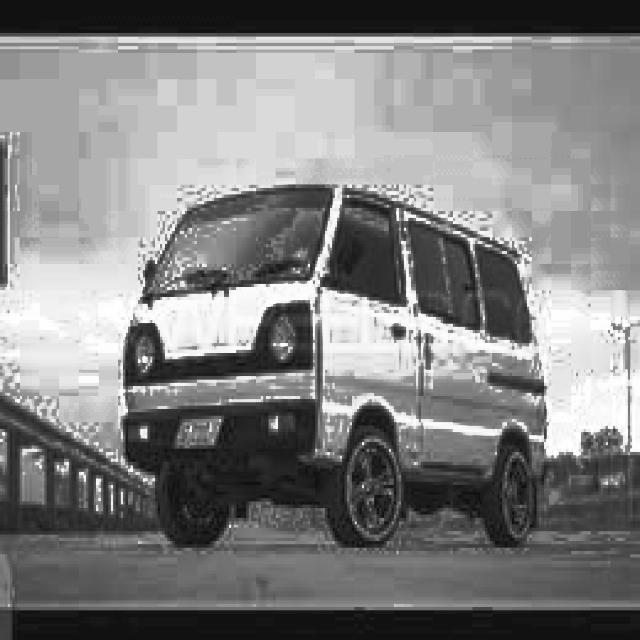LCV: (123, 171, 549, 551)
